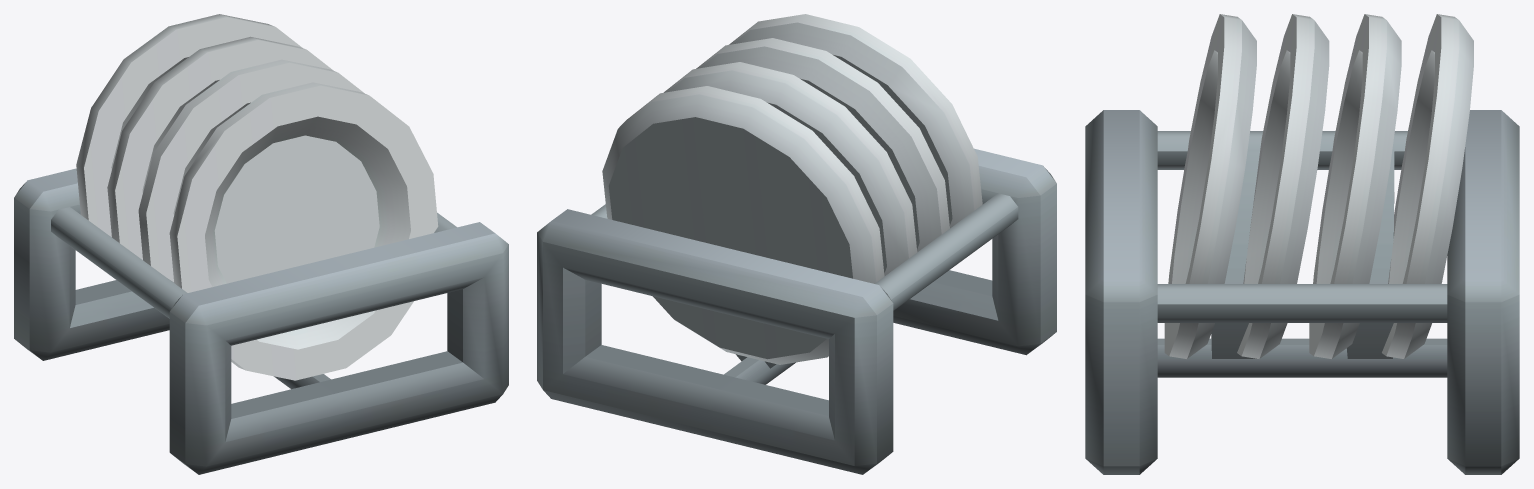
Rendered from dishrack_plates.glb.
3 views of the same model, side by side, from view 1: azimuth 30°, elevation 25°; view 2: azimuth 150°, elevation 25°; view 3: azimuth 270°, elevation 25° (orthographic). The views are drawn at different scales.
Parts seen in each view (by area): view 1: dishrack_plates; view 2: dishrack_plates; view 3: dishrack_plates.
Boxes of the visible parts, box(x1,y1,x2,y2) form: dishrack_plates: box(14, 14, 508, 474); dishrack_plates: box(537, 14, 1056, 474); dishrack_plates: box(1085, 14, 1519, 474).
Bounding box in the file's own units: 1.2 × 1.1 × 1.2.
Materials: 1 (1 with a texture image).
